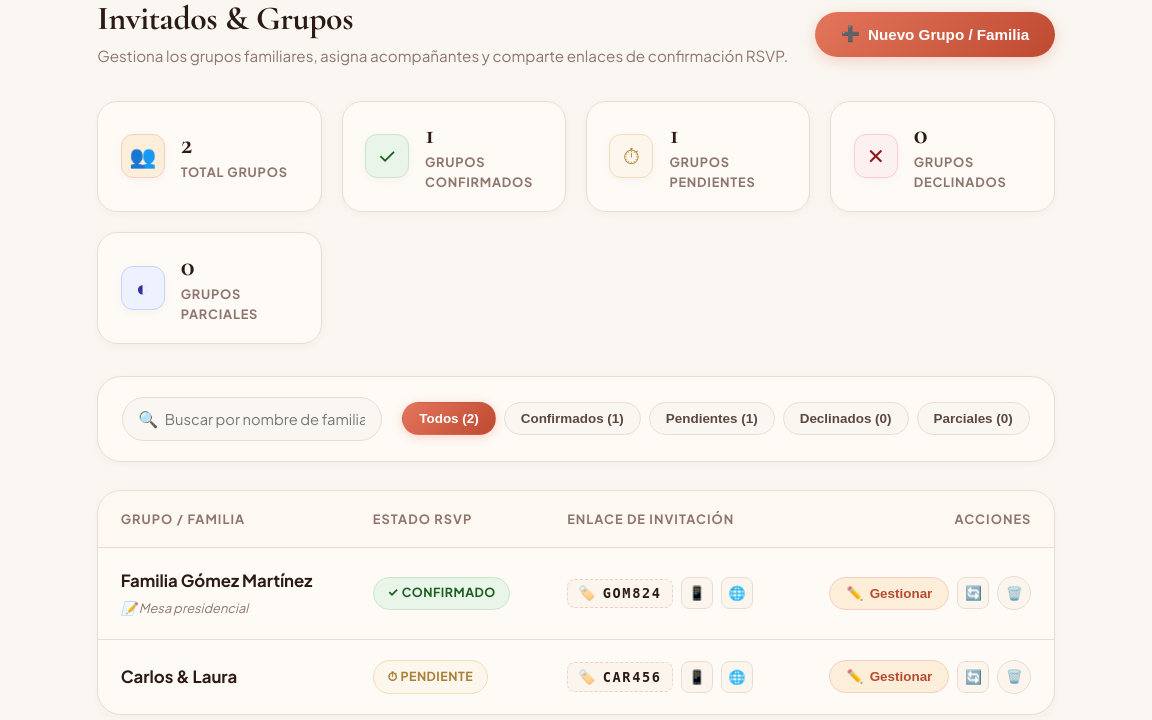
Test: Feature: Panel de Invitaciones y Gestión de QR (AdminPartiesPage) › permite añadir invitados directamente en el modal de nuevo grupo sin crearlo primero
The image size is (1152, 720).
Abrir modal de nuevo grupo
Click the button "➕ Nuevo Grupo / Familia" at (935, 34), box [815, 12, 1055, 57]
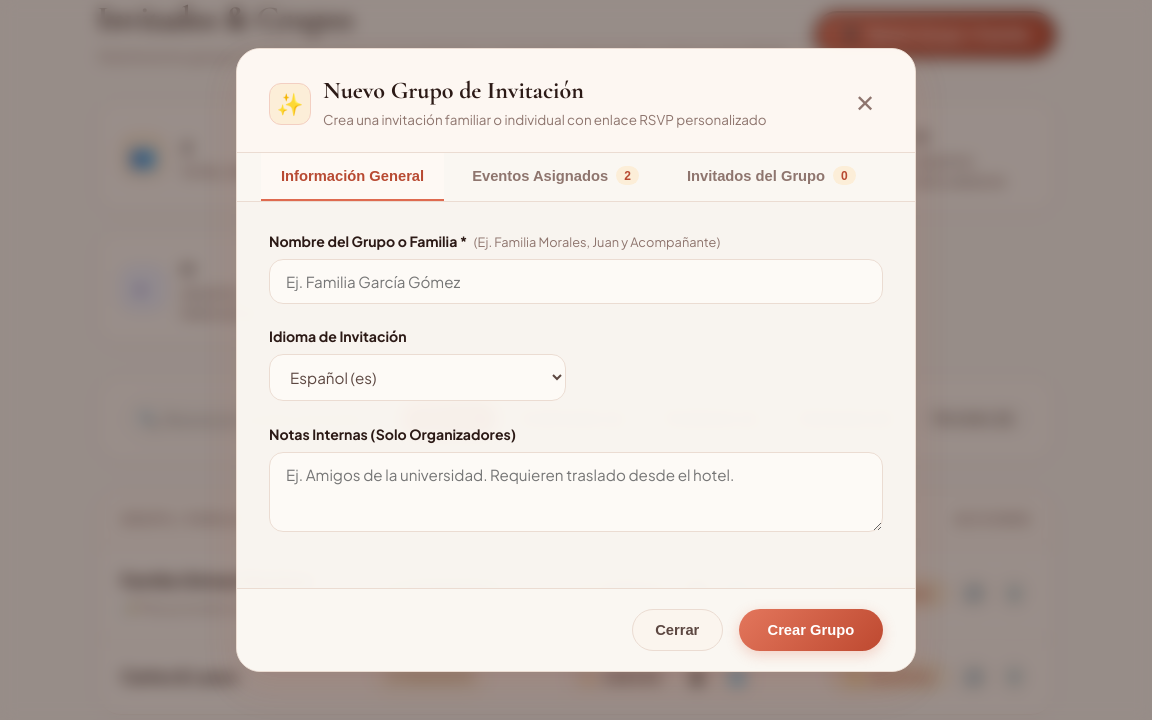
Check: the heading "Nuevo Grupo de Invitación" is shown, box [323, 76, 584, 105]
Rellenar información básica
Type "Familia Ruiz" into the field with placeholder "Ej. Familia García Gómez" at (576, 281), box [269, 258, 883, 304]
Cambiar a la pestaña de Invitados del Grupo (accesible en modo creación)
Click the button "Invitados del Grupo 0" at (771, 177), box [667, 153, 876, 201]
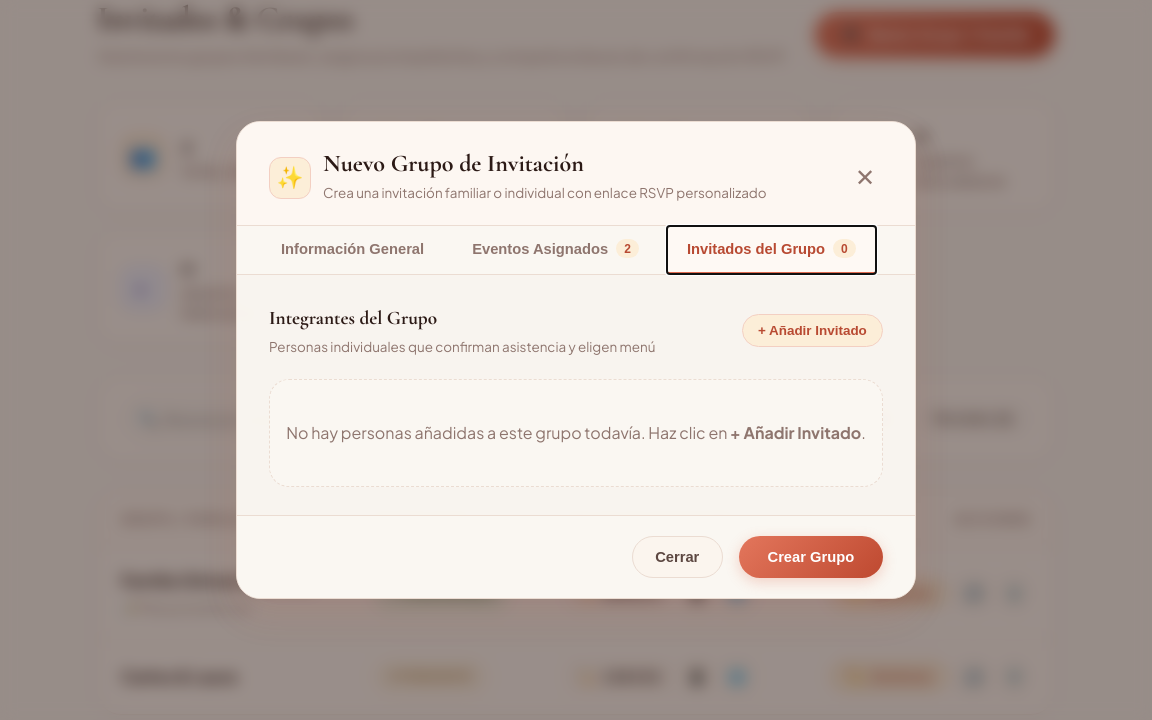
Añadir un invitado en memoria
Click the button "+ Añadir Invitado" at (812, 331), box [742, 314, 883, 347]
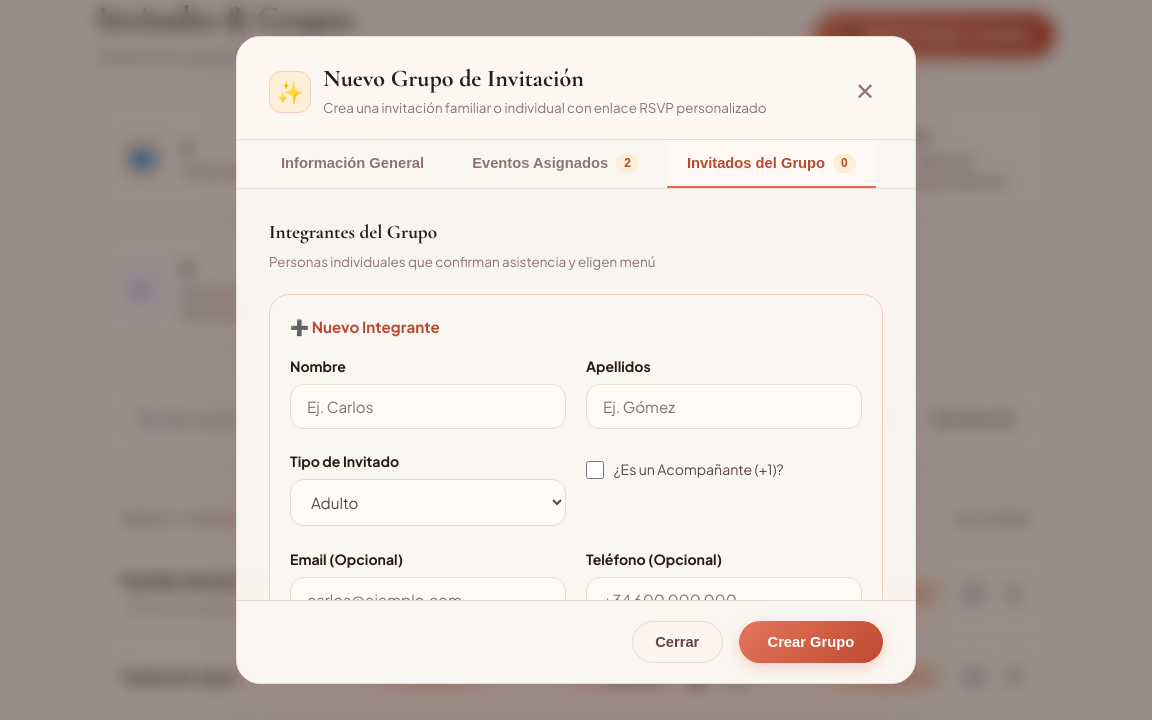
Type "Pedro" into the field with placeholder "Ej. Carlos" at (428, 406), box [290, 384, 566, 429]
(page scrolled)
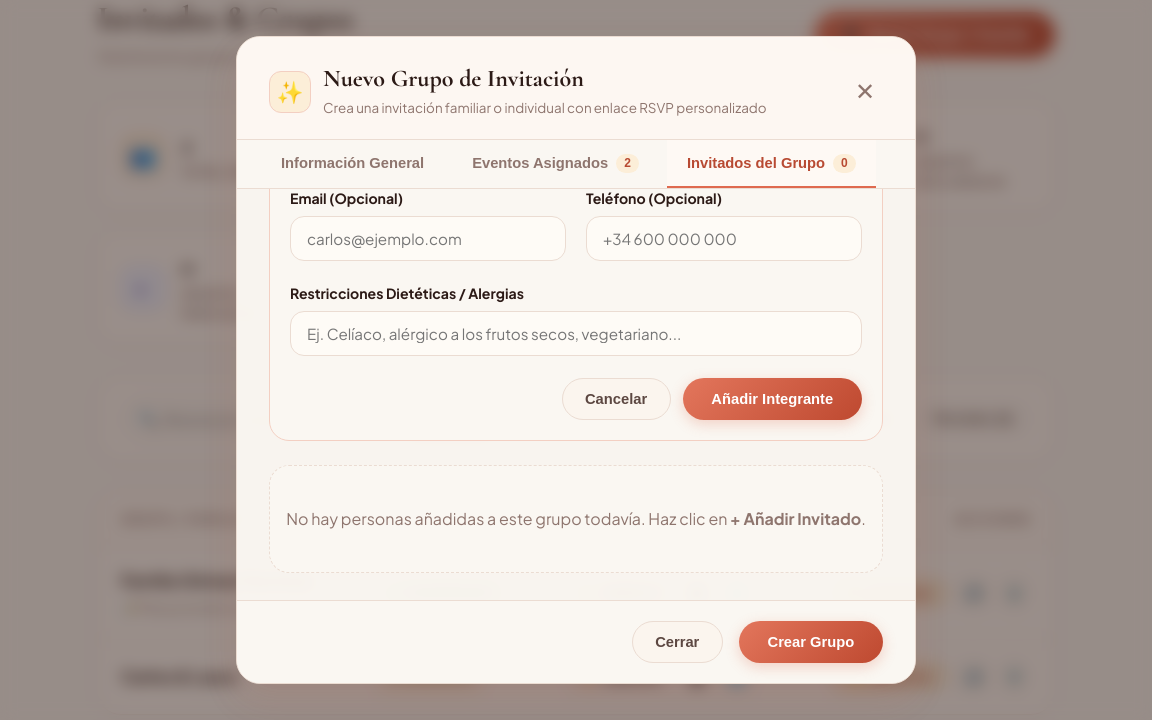
Click the button "Añadir Integrante" at (772, 399), box [682, 378, 862, 420]
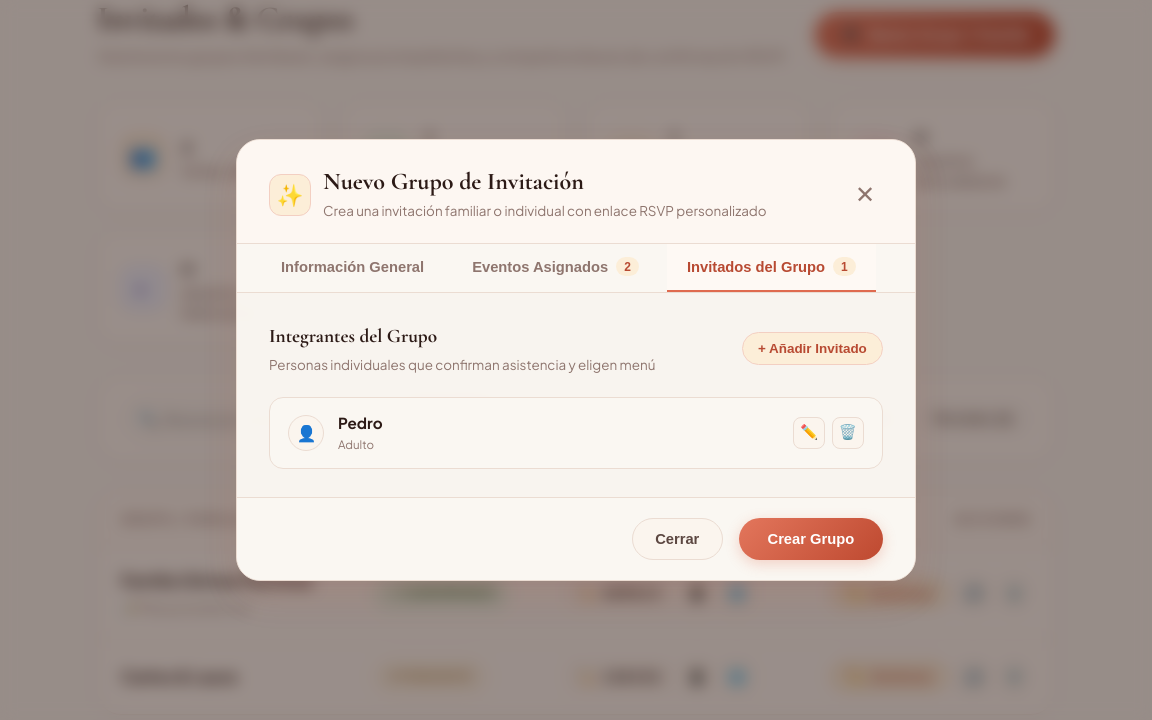
Check: the text "Pedro" is shown, box [338, 412, 383, 436]
Guardar el grupo con sus integrantes en un solo paso
Click the button "Crear Grupo" at (811, 539), box [739, 518, 883, 560]
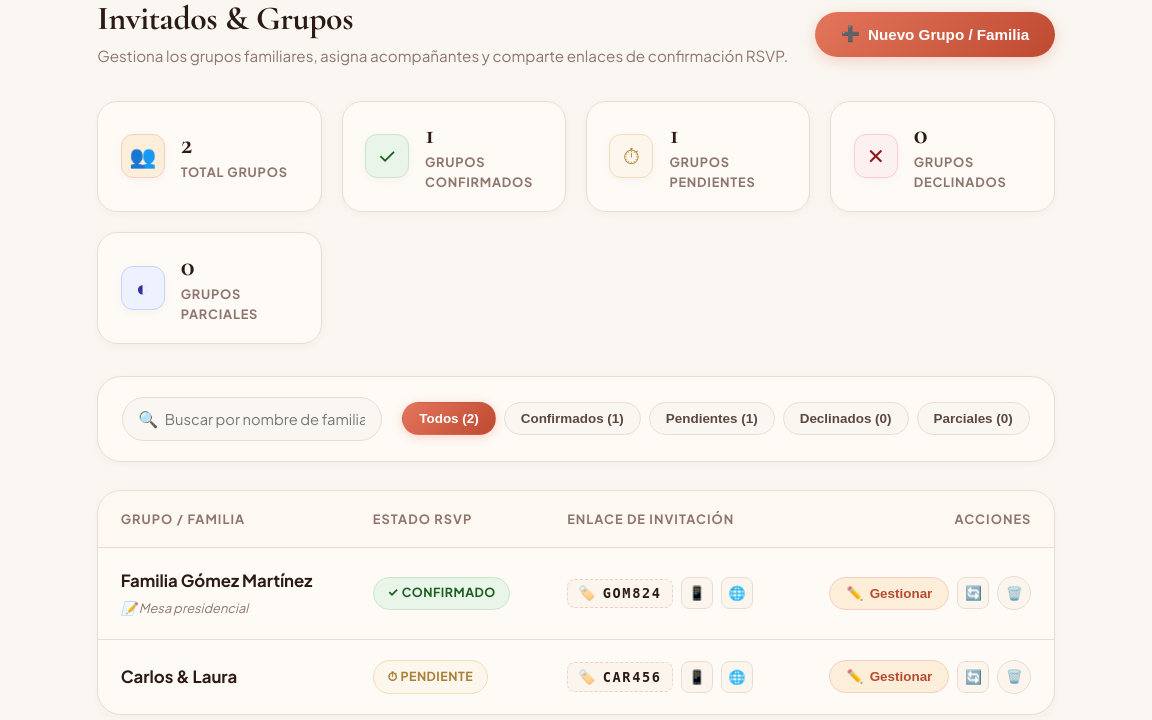
Check: the heading "Nuevo Grupo de Invitación" is gone
